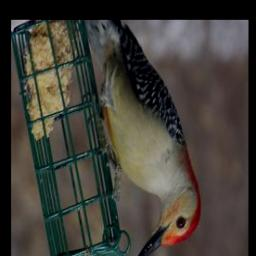Woodpecker: (86, 22, 200, 256)
